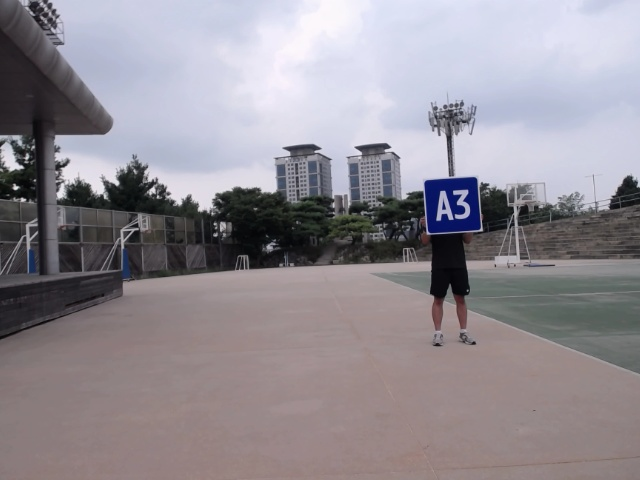delivery_a3: (424, 176, 482, 235)
